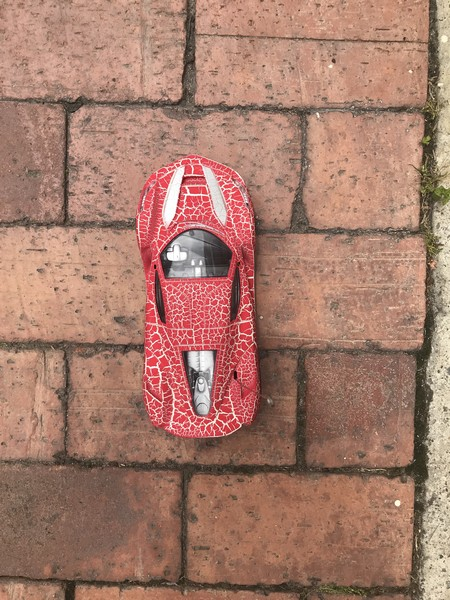RC: (133, 154, 263, 440)
